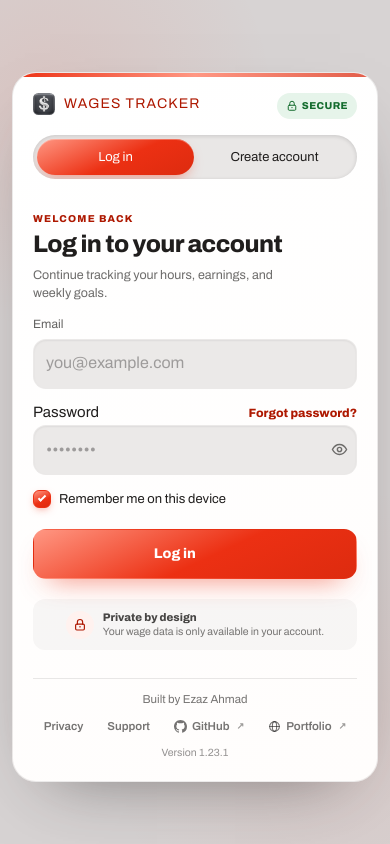
Test case: forgot-password auth flow › opens the recovery form, preserves the typed email, and hides the login/signup switch
Step 1. Type "sam@example.com" into the field labelled "Email" → (195, 364), box [33,339,357,389]
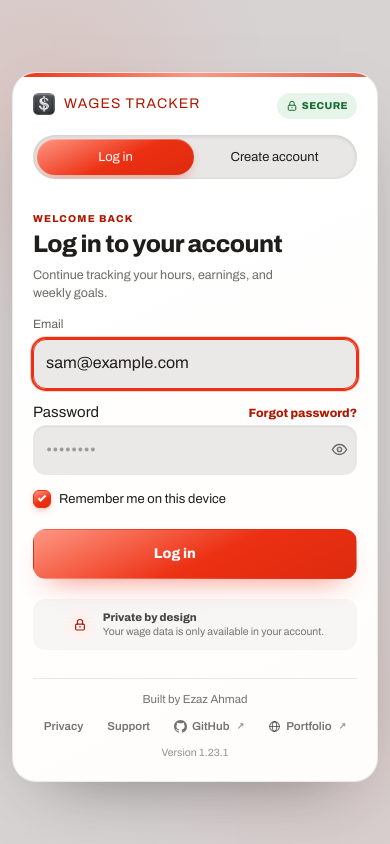
Step 2. Click the button "Forgot password?" → (303, 413), box [241,391,365,435]
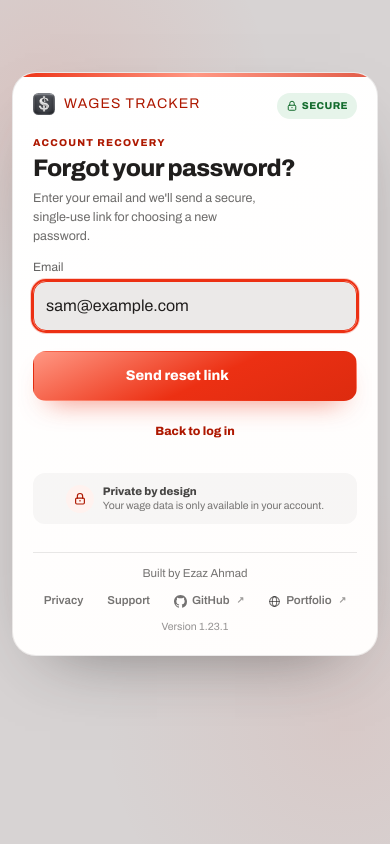
Now the heading "Forgot your password?" is shown, box [33,154,295,180]
Now the field labelled "Email" holds "sam@example.com", box [33,281,357,331]
Now the radio button labelled "Create account" is gone
